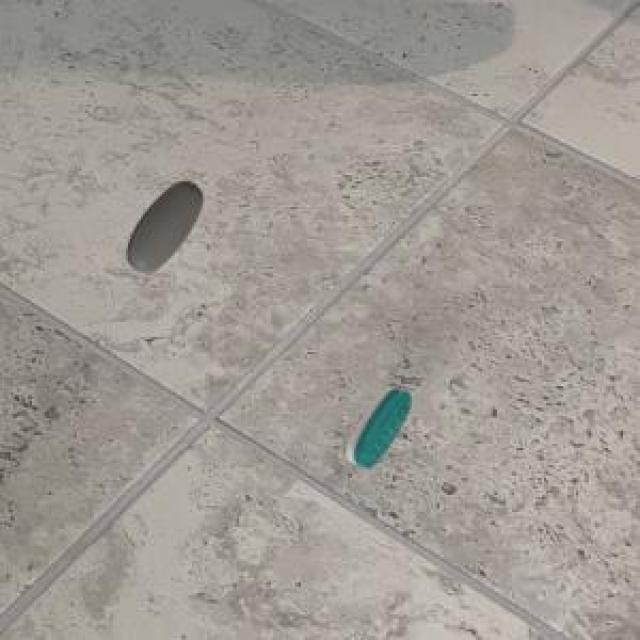Neozep: (115, 167, 214, 283), (345, 375, 422, 475)
